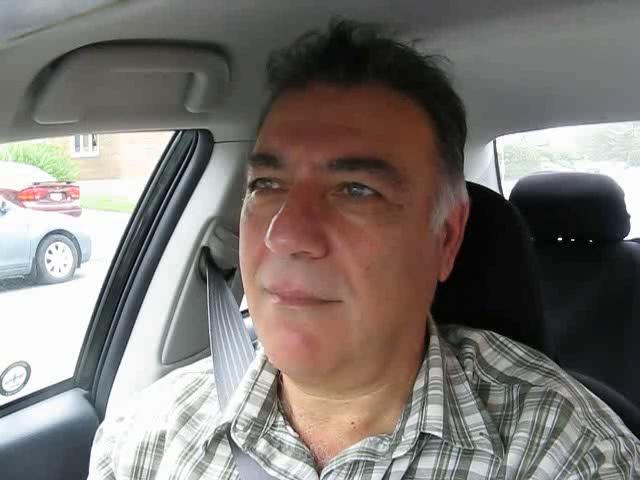no_yawn: (247, 268, 355, 327)
open_eyeL: (240, 166, 299, 206)
open_eyeR: (320, 168, 402, 214)
